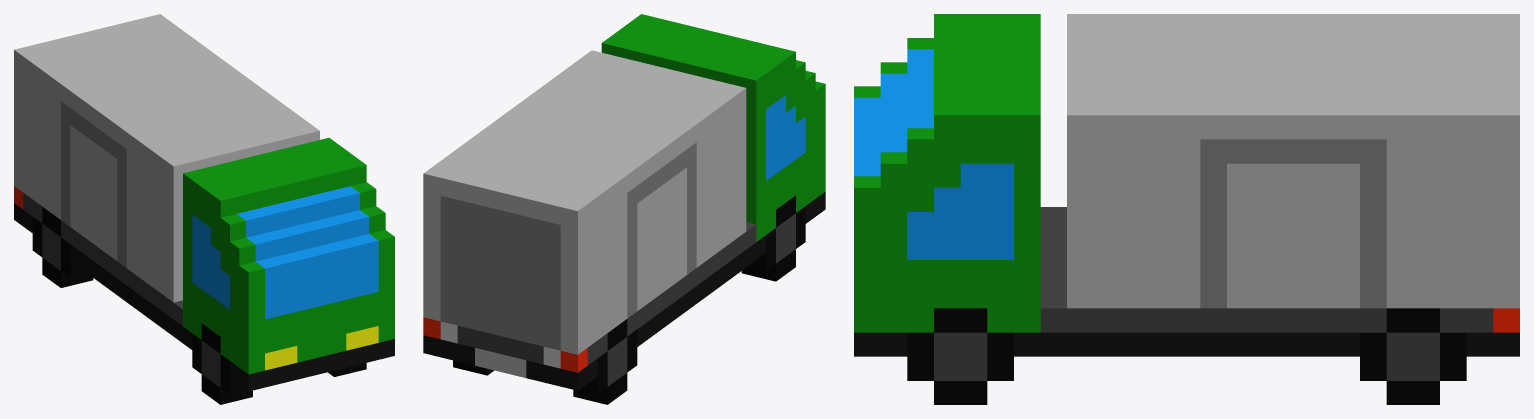
File: Truck_obj.obj
3 views of the same model, side by side, from view 1: azimuth 30°, elevation 25°; view 2: azimuth 150°, elevation 25°; view 3: azimuth 270°, elevation 25° (orthographic). The views are drawn at different scales.
Parts seen in each view (by area): view 1: 立方体.1363; view 2: 立方体.1363; view 3: 立方体.1363.
Part boxes in pixels (x1=…): 立方体.1363: x1=14, y1=14, x2=394, y2=404; 立方体.1363: x1=423, y1=14, x2=825, y2=404; 立方体.1363: x1=854, y1=14, x2=1519, y2=404.
Size of the model in its own units: 9 by 12 by 25.
